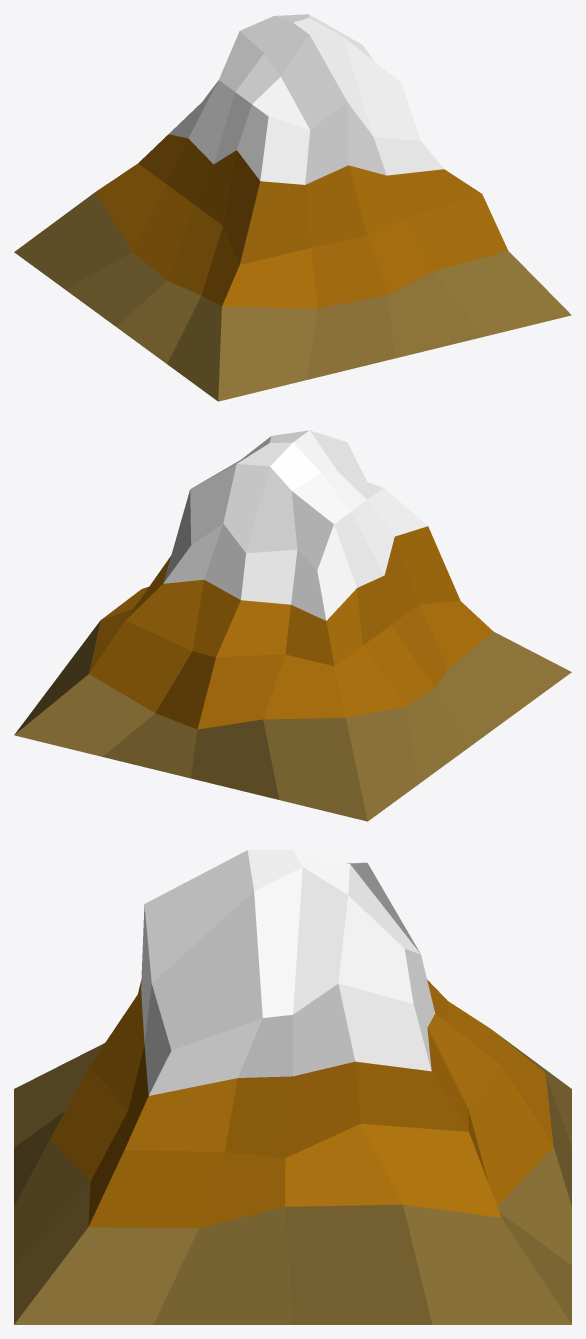
The model's file is mountain.glb.
3 views of the same model, one above another, from view 1: azimuth 30°, elevation 25°; view 2: azimuth 150°, elevation 25°; view 3: azimuth 270°, elevation 25° (orthographic). The views are drawn at different scales.
Parts seen in each view (by area): view 1: Cube; view 2: Cube; view 3: Cube.
Boxes of the visible parts, x1,y1,x2,y2 form: Cube: (14, 14, 571, 401); Cube: (14, 430, 571, 821); Cube: (14, 850, 571, 1324).
Size of the model in its own units: 3.6 by 2.54 by 3.6.
Materials: 1 (1 with a texture image).
